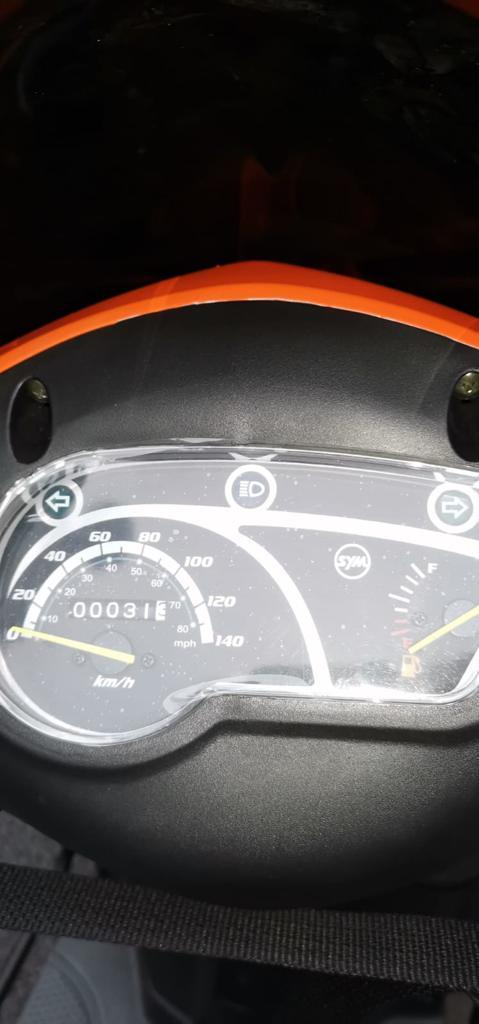0: (88, 601, 103, 618), (72, 600, 86, 618), (105, 601, 119, 618)
1: (141, 601, 151, 619)
3: (122, 601, 136, 618), (157, 600, 167, 616)
odometer: (60, 595, 169, 624)
